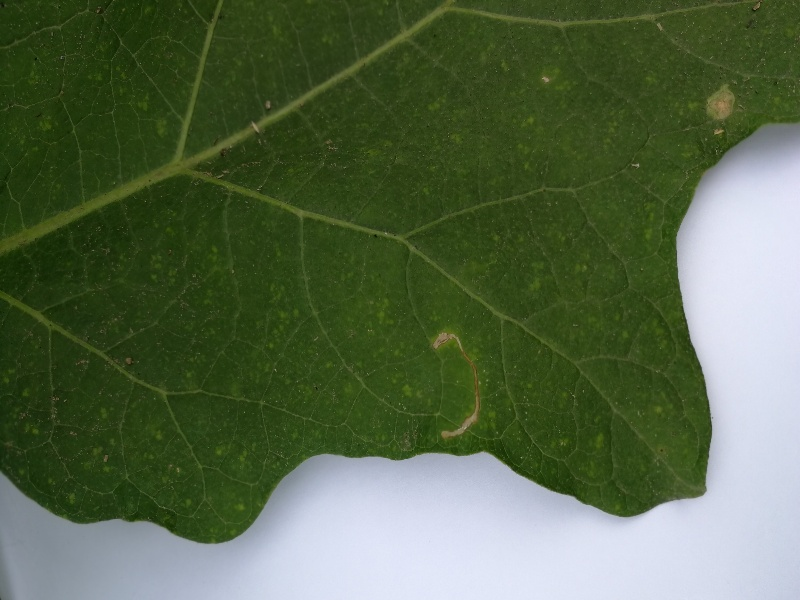leafminer: (424, 329, 489, 444)
